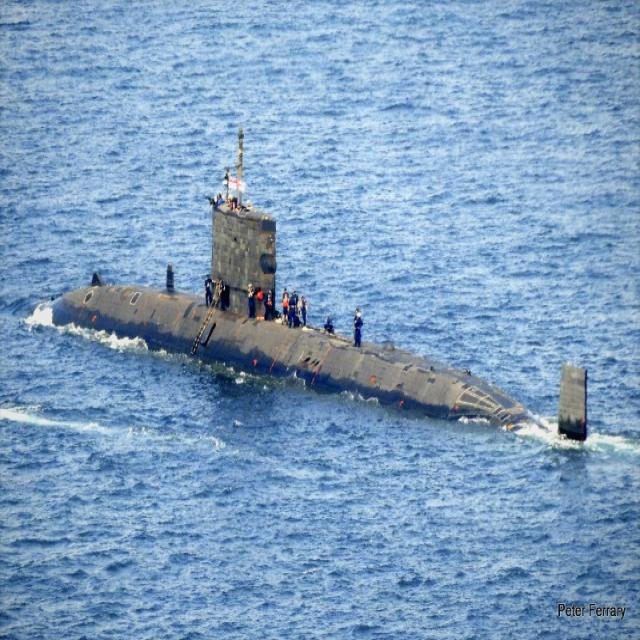submarine: (40, 204, 591, 445)
